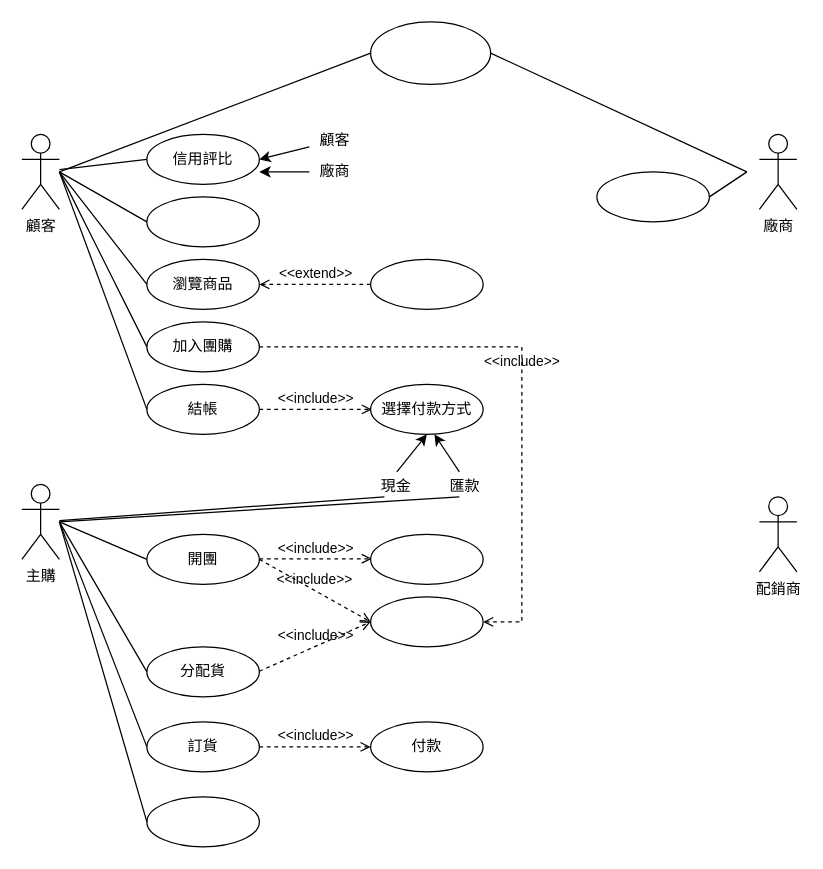
Some shapes in this 823 by 869 pixel diagram are drawn without their labels. Here are the shapes that lost their labels. From the top down, the centre of each, then its label:
At pixel 430 52: "使用團購 ChatGPT".
At pixel 652 196: "出貨給配銷商".
At pixel 202 221: "查詢訂單".
At pixel 426 283: "提出看法".
At pixel 426 558: "議價".
At pixel 426 621: "購買名單".
At pixel 202 821: "取貨".
